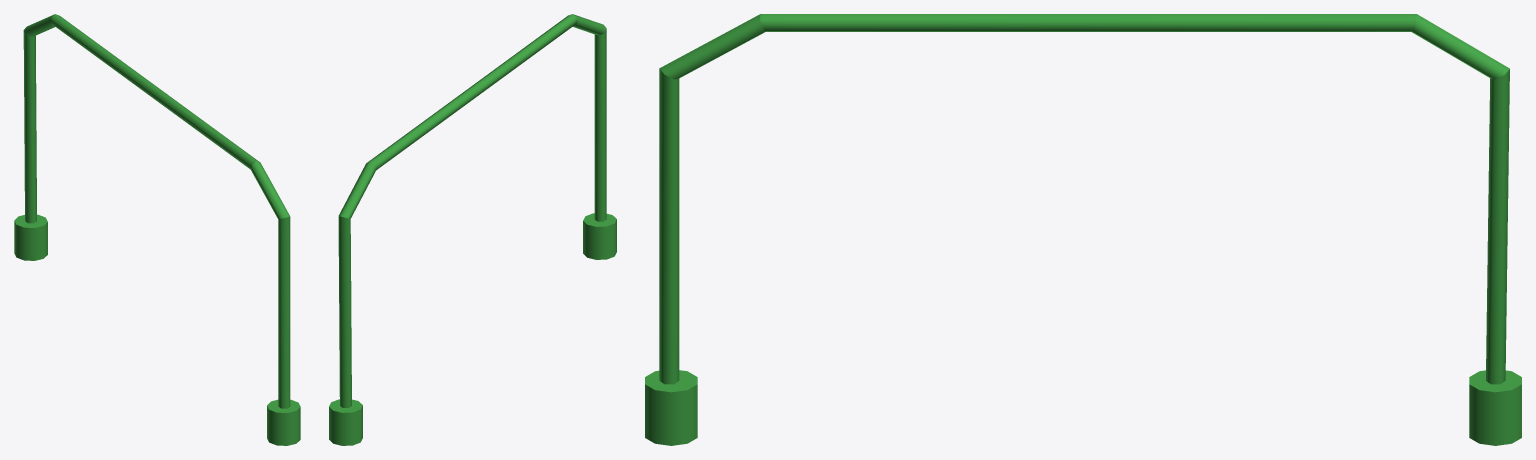
The model's file is ladder fence 05.FBX.
3 renders of one model, left to right at view 1: azimuth 30°, elevation 25°; view 2: azimuth 150°, elevation 25°; view 3: azimuth 270°, elevation 25°, orthographic. The views are drawn at different scales.
Visible parts, largest first — view 1: Line057; view 2: Line057; view 3: Line057.
Boxes of the visible parts, x1,y1,x2,y2 form: Line057: (14,14,300,445); Line057: (329,14,616,445); Line057: (645,14,1521,445).
Size of the model in its own units: 0.14 by 1.18 by 2.22.
